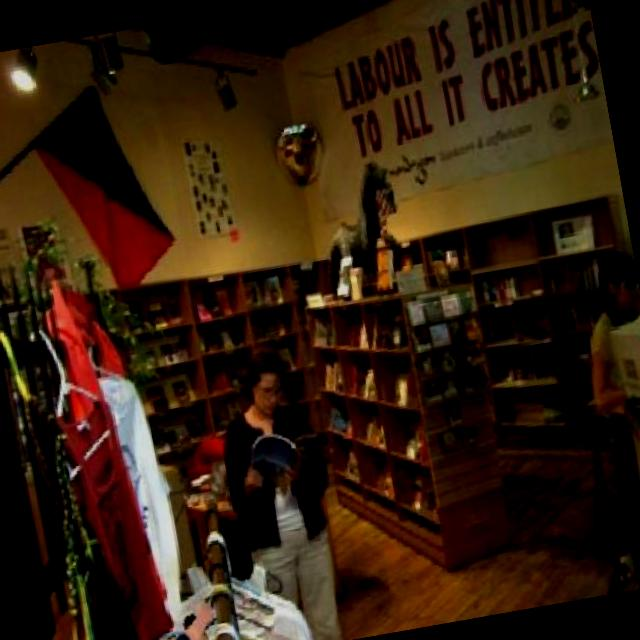Person: (51, 591, 228, 640)
